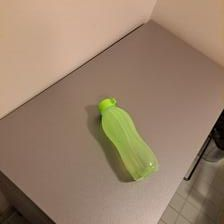bottle: (92, 94, 157, 182)
